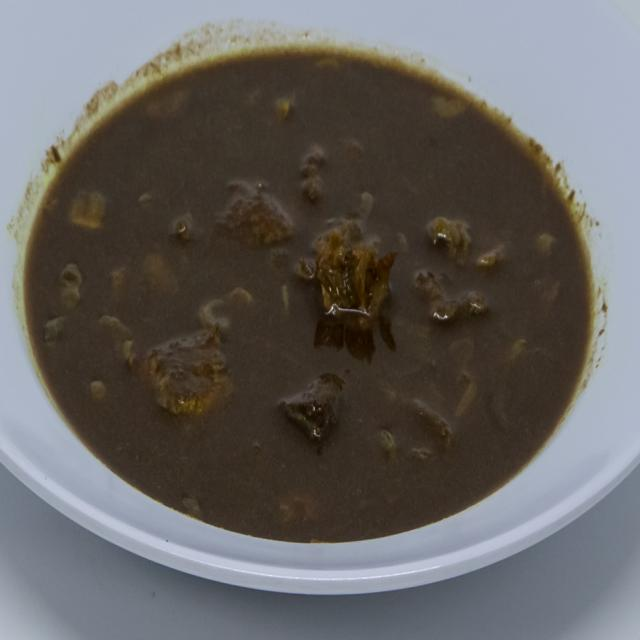Rawon-Surabaya: (18, 34, 615, 554)
